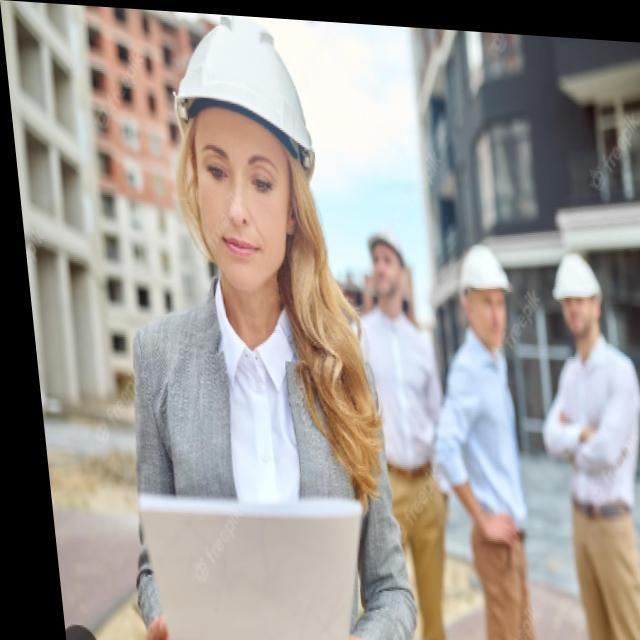hard_hat: (163, 11, 335, 310), (452, 235, 521, 352), (548, 250, 611, 345), (362, 225, 417, 320)
